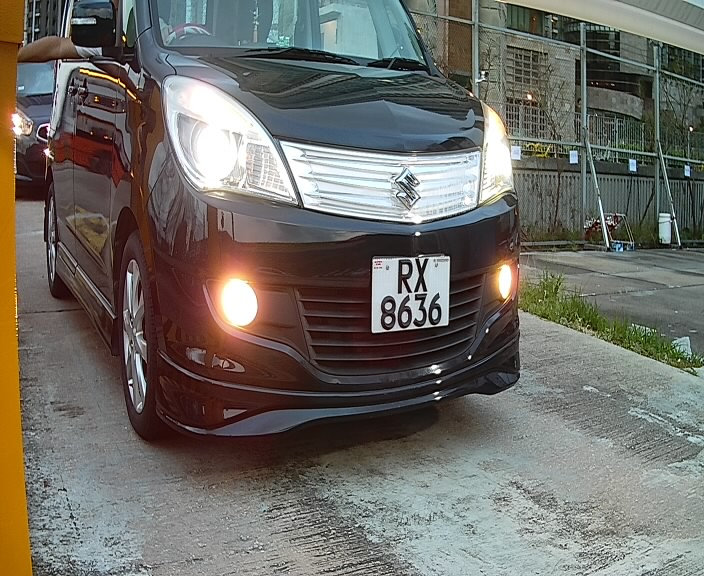Car: (19, 2, 530, 476)
License Plate: (365, 241, 457, 345)
